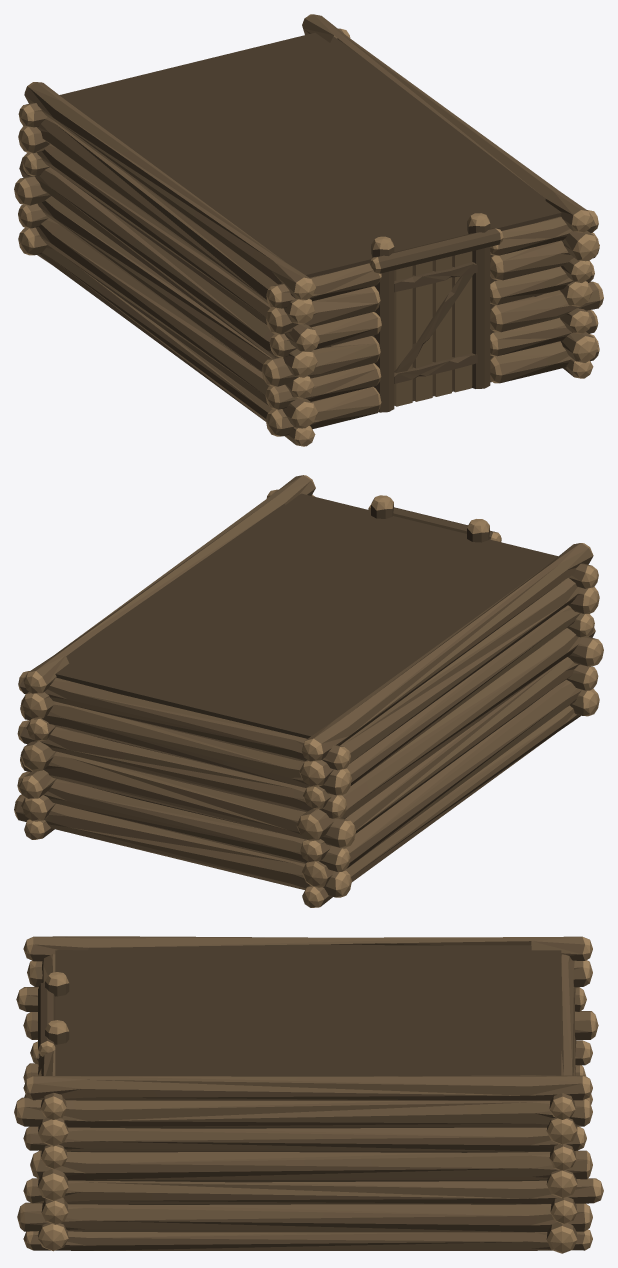
The picture shows the model from 3 angles, top to bottom: view 1: azimuth 30°, elevation 25°; view 2: azimuth 150°, elevation 25°; view 3: azimuth 270°, elevation 25°; orthographic projection. The views are drawn at different scales.
Parts seen in each view (by area): view 1: SM_Bld_Base_Long_Door_01; view 2: SM_Bld_Base_Long_Door_01; view 3: SM_Bld_Base_Long_Door_01.
Part boxes in pixels (x1,y1,x2,y2): SM_Bld_Base_Long_Door_01: (14,14,603,446); SM_Bld_Base_Long_Door_01: (14,475,603,907); SM_Bld_Base_Long_Door_01: (14,936,603,1253).
Bounding box in the file's own units: 4.96 × 2.49 × 7.33.
Materials: 1 (1 with a texture image).
